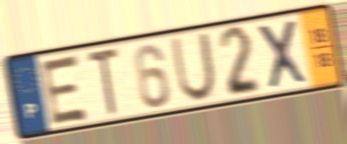2: (217, 23, 264, 101)
6: (133, 41, 172, 110)
E: (39, 52, 92, 128)
T: (85, 45, 122, 119)
U: (168, 30, 218, 104)
X: (254, 17, 311, 92)
